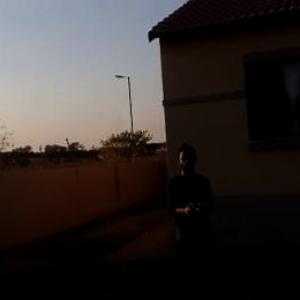follow: (156, 134, 235, 299)
